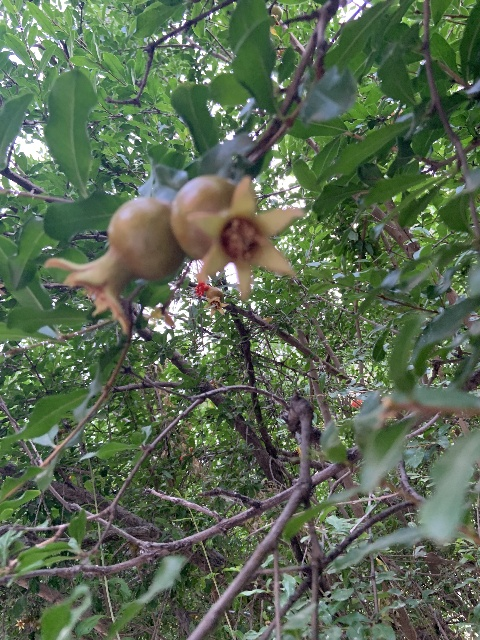early-fruit: (43, 198, 181, 336), (171, 173, 305, 301), (203, 286, 228, 316)
flower: (193, 277, 209, 297)
